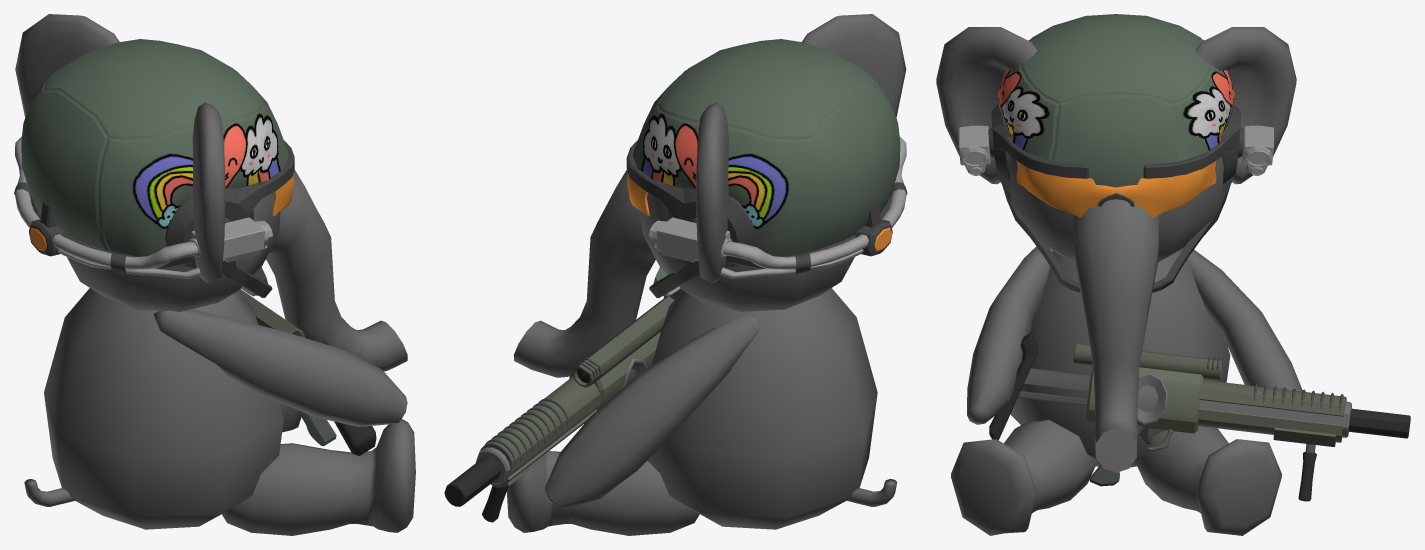
File: Hephalump_FluffyArmy.fbx
3 renders of one model, left to right at view 1: azimuth 30°, elevation 25°; view 2: azimuth 150°, elevation 25°; view 3: azimuth 270°, elevation 25°, orthographic. The views are drawn at different scales.
Parts seen in each view (by area): view 1: pCube24, polySurface62, polySurface56, polySurface60, polySurface112, polySurface108, polySurface111, polySurface110, polySurface7; view 2: pCube24, polySurface62, polySurface54, polySurface7, polySurface112, polySurface57, polySurface108, polySurface110, polySurface111; view 3: pCube24, polySurface7, polySurface112, polySurface62, polySurface60, polySurface57, polySurface56, polySurface111, polySurface110, polySurface54, polySurface108.
Boxes of the visible parts, x1=… form: pCube24: x1=14, y1=39, x2=294, y2=298; polySurface62: x1=24, y1=288, x2=283, y2=529; polySurface56: x1=154, y1=309, x2=407, y2=426; polySurface60: x1=222, y1=419, x2=415, y2=535; polySurface112: x1=266, y1=169, x2=407, y2=371; polySurface108: x1=67, y1=192, x2=280, y2=311; polySurface111: x1=192, y1=102, x2=225, y2=282; polySurface110: x1=15, y1=14, x2=119, y2=117; polySurface7: x1=239, y1=289, x2=376, y2=455; pCube24: x1=626, y1=39, x2=907, y2=298; polySurface62: x1=647, y1=288, x2=897, y2=529; polySurface54: x1=545, y1=314, x2=758, y2=508; polySurface7: x1=444, y1=289, x2=682, y2=522; polySurface112: x1=513, y1=170, x2=655, y2=377; polySurface57: x1=506, y1=450, x2=699, y2=535; polySurface108: x1=641, y1=192, x2=854, y2=311; polySurface110: x1=696, y1=102, x2=728, y2=283; polySurface111: x1=802, y1=14, x2=906, y2=117; pCube24: x1=958, y1=14, x2=1273, y2=292; polySurface7: x1=989, y1=332, x2=1410, y2=501; polySurface112: x1=1074, y1=199, x2=1158, y2=472; polySurface62: x1=1010, y1=249, x2=1230, y2=467; polySurface60: x1=951, y1=419, x2=1097, y2=535; polySurface57: x1=1135, y1=426, x2=1281, y2=535; polySurface56: x1=967, y1=246, x2=1052, y2=424; polySurface111: x1=936, y1=27, x2=1037, y2=184; polySurface110: x1=1195, y1=27, x2=1296, y2=184; polySurface54: x1=1182, y1=249, x2=1302, y2=391; polySurface108: x1=1009, y1=136, x2=1223, y2=262.
Size of the model in its own units: 85.18 by 101 by 101.
3 materials, 3 textured.
